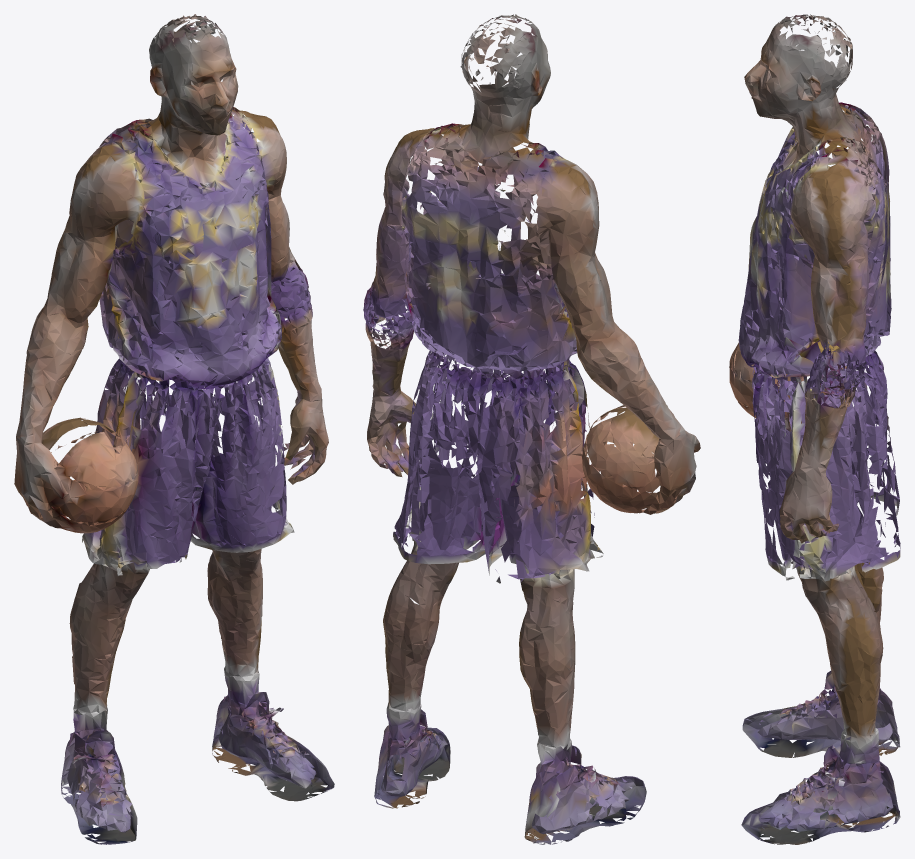
File: kobe.glb
3 views of the same model, side by side, from view 1: azimuth 30°, elevation 25°; view 2: azimuth 150°, elevation 25°; view 3: azimuth 270°, elevation 25° (orthographic).
Size of the model in its own units: 0.8157 by 1.98 by 0.3969.
